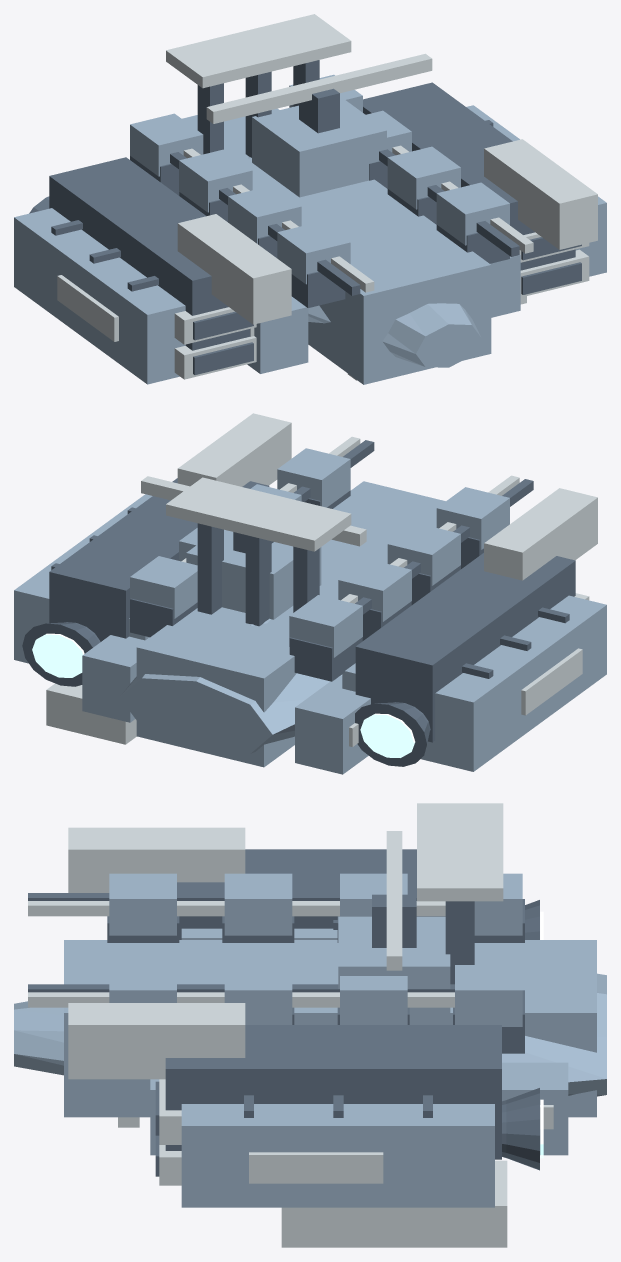
The picture shows the model from 3 angles, top to bottom: view 1: azimuth 30°, elevation 25°; view 2: azimuth 150°, elevation 25°; view 3: azimuth 270°, elevation 25°; orthographic projection. The views are drawn at different scales.
Bounding box in the file's own units: 17.62 × 8.94 × 16.47.
